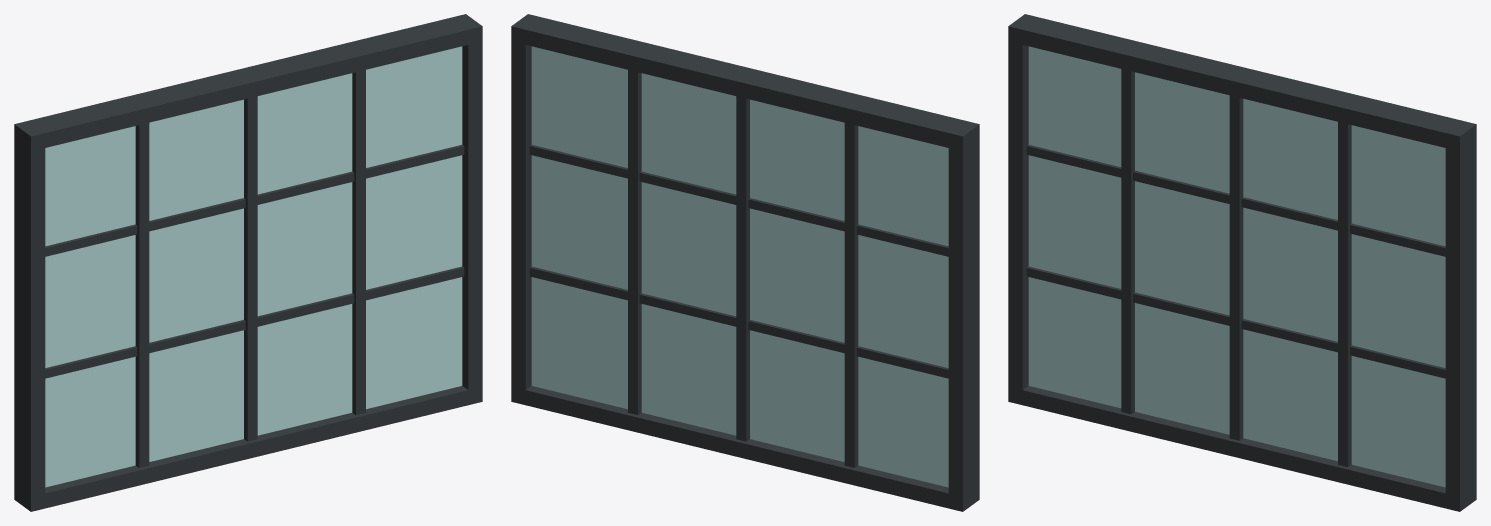
Rendered from Window_03.fbx.
The picture shows the model from 3 angles, left to right: view 1: azimuth 30°, elevation 25°; view 2: azimuth 150°, elevation 25°; view 3: azimuth 330°, elevation 25°; orthographic projection.
Parts seen in each view (by area): view 1: Window_03; view 2: Window_03; view 3: Window_03.
Part boxes in pixels (bbox=[...]): Window_03: bbox=[14, 14, 482, 511]; Window_03: bbox=[511, 14, 979, 511]; Window_03: bbox=[1008, 14, 1476, 511].
Bounding box in the file's own units: 139 × 110 × 8.94.
